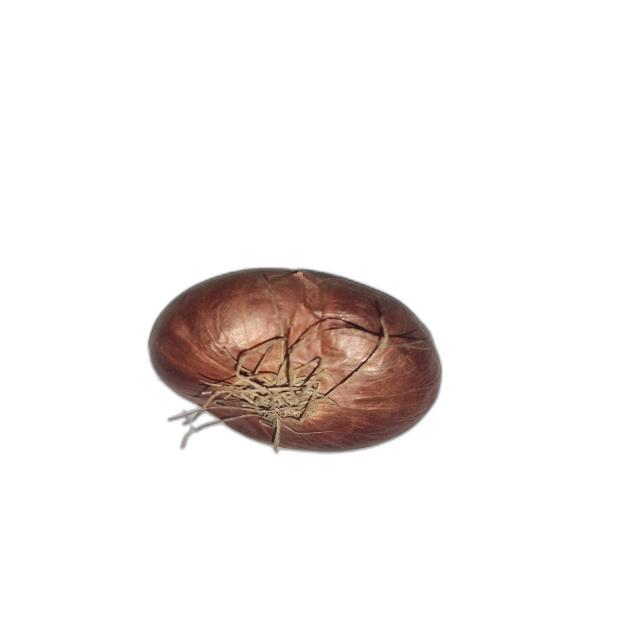onion: (146, 266, 443, 454)
